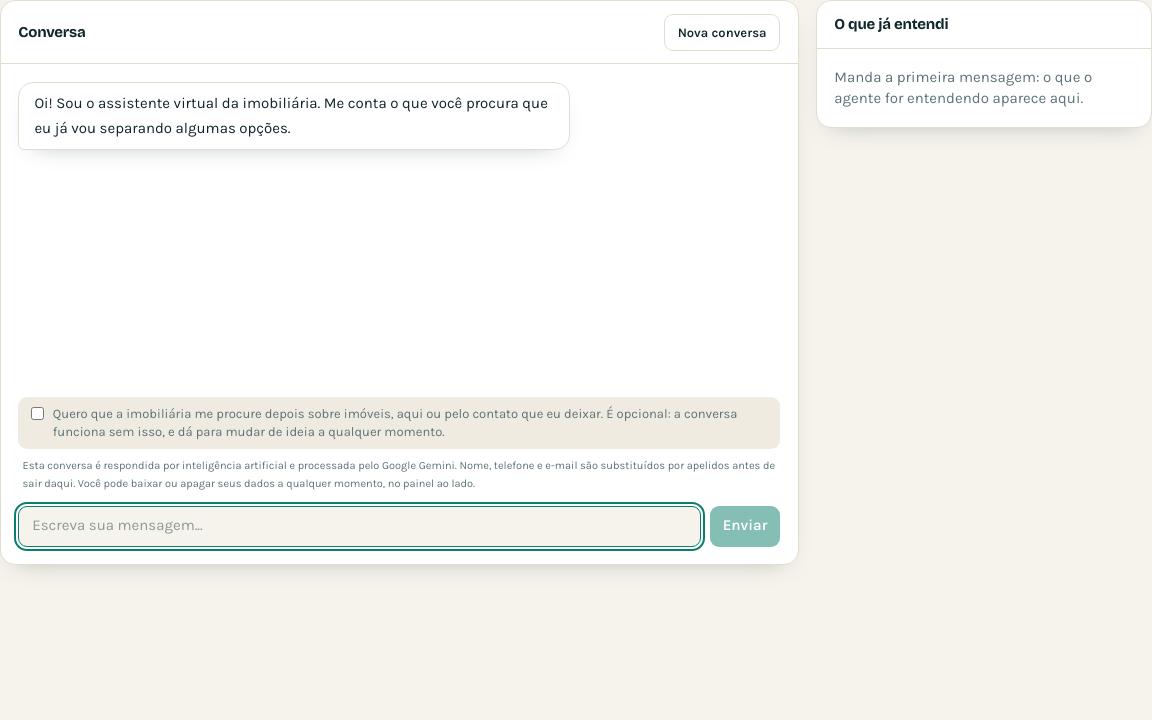
Test case: primeira mensagem › manda lead_id nulo e o aceite, e guarda o id que voltou
This screenshot has width=1152, height=720.
Click the checkbox: (38, 414) [31, 407, 44, 420]
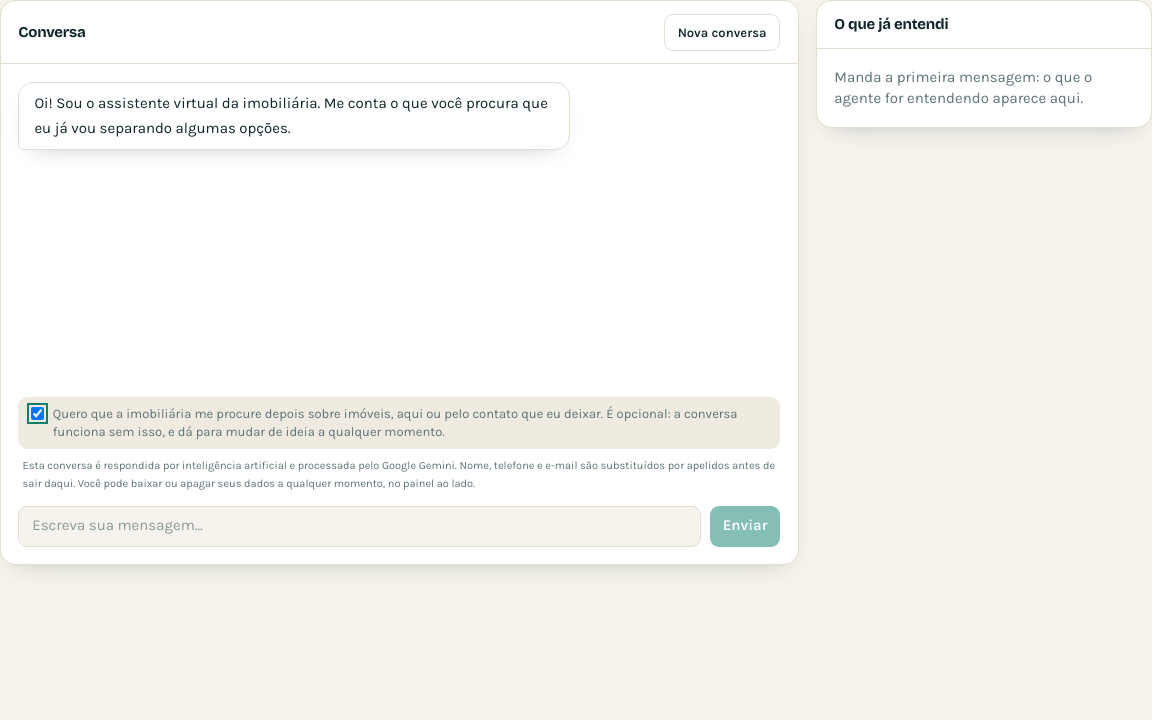
In the field with placeholder "Escreva sua mensagem...": (360, 526) [18, 506, 701, 547], type "quero alugar em Botafogo"
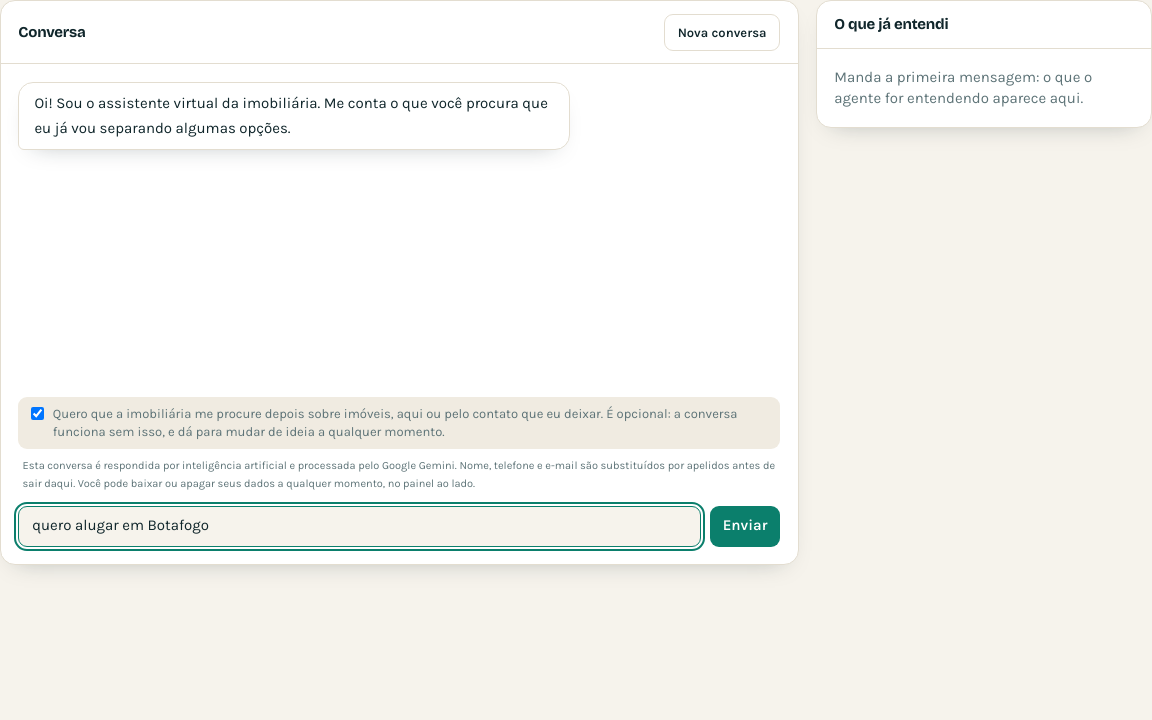
Click the button "Enviar": (745, 526) [710, 506, 780, 547]
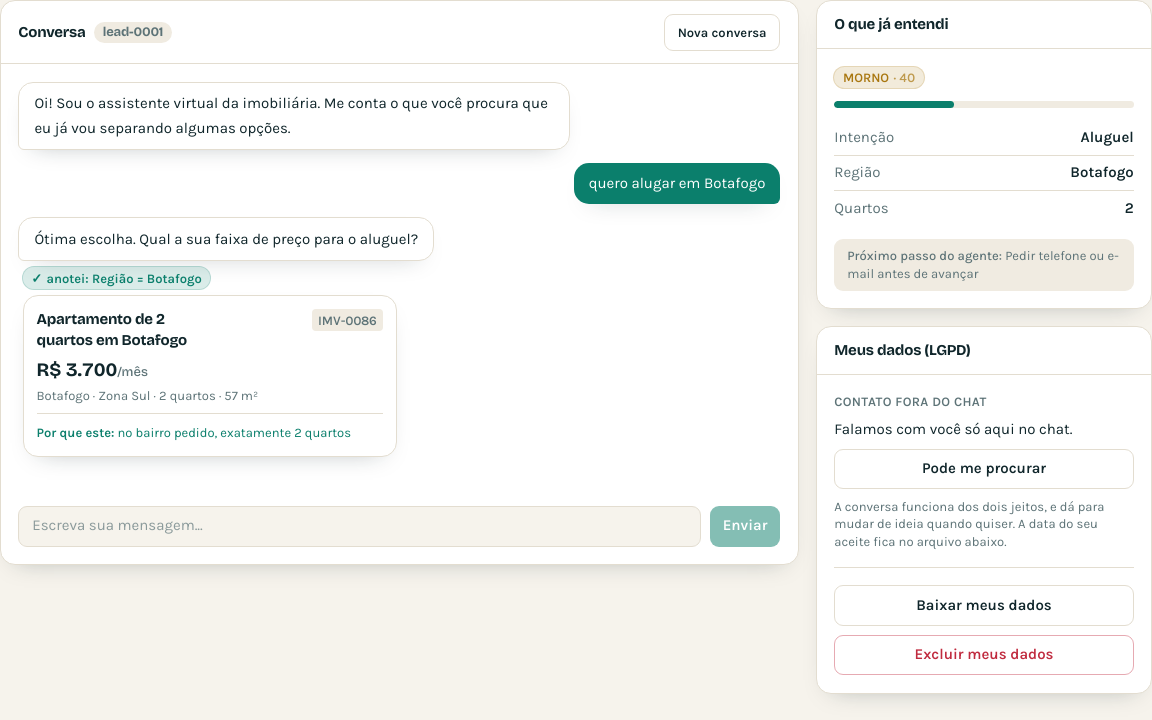
Result: the text "lead-0001" is shown at [94, 22, 172, 43]
